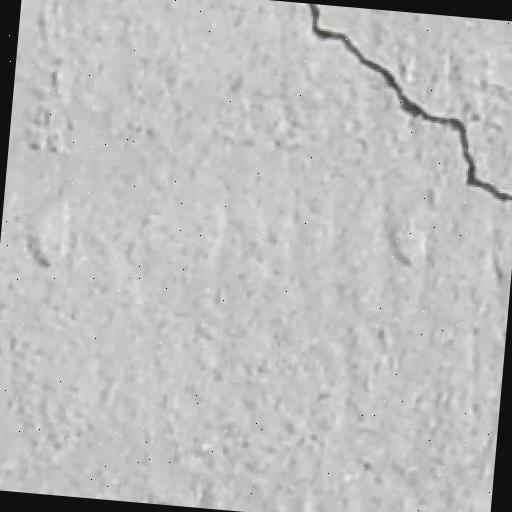spalling: (287, 6, 512, 216)
